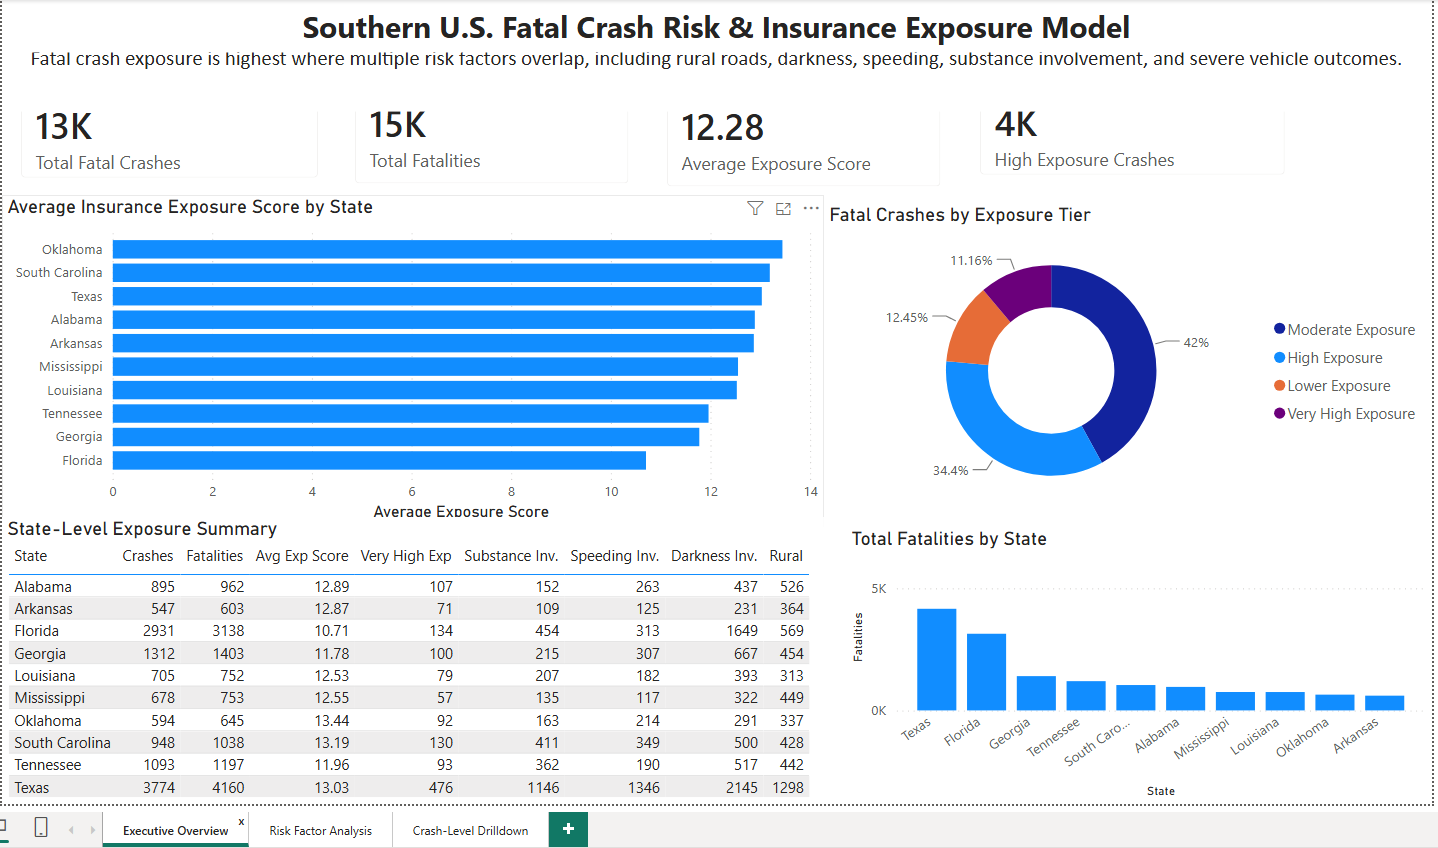

The page's visual inventory and layout, read from the dashboard file:
{"tool":"powerbi","page":{"name":"Executive Overview","canvas":[1280,720],"ordinal":0},"visuals":[{"type":"cardVisual","fields":{"Data":["risk vw_exposure_tier_summary.Total Fatalities"]},"box":[299.1,56.7,279.8,125.4],"z":0},{"type":"cardVisual","fields":{"Data":["risk vw_exposure_tier_summary.Average Exposure Score"]},"box":[578.9,59.1,279.8,125.4],"z":1000},{"type":"cardVisual","fields":{"Data":["risk vw_exposure_tier_summary.Total Fatal Crashes"]},"box":[0,66.3,300.3,111],"z":2000},{"type":"clusteredBarChart","title":"Average Insurance Exposure Score by State","fields":{"Category":["risk vw_state_exposure_summary.STATENAME"],"Y":["Avg(risk vw_state_exposure_summary.AVG_EXPOSURE_SCORE)"]},"box":[0,174.9,735.7,296.7],"z":3000},{"type":"donutChart","title":"Fatal Crashes by Exposure Tier","fields":{"Category":["risk vw_insurance_exposure_score.EXPOSURE_TIER"],"Y":["Sum(risk vw_insurance_exposure_score.ST_CASE)"]},"box":[735.7,182.1,543.9,281],"z":4000},{"type":"cardVisual","fields":{"Data":["Sum(risk vw_state_exposure_summary.HIGH_EXPOSURE_CRASHES)"]},"box":[858.7,63.9,307.5,111],"z":5000},{"type":"clusteredColumnChart","title":"Total Fatalities by State","fields":{"Category":["risk vw_state_exposure_summary.STATENAME"],"Y":["Sum(risk vw_state_exposure_summary.TOTAL_FATALITIES)"]},"box":[756.2,471.6,523.4,247.2],"z":6000},{"type":"tableEx","title":"State-Level Exposure Summary","fields":{"Values":["risk vw_state_exposure_summary.STATENAME","risk vw_state_exposure_summary.FATAL_CRASH_COUNT","risk vw_state_exposure_summary.TOTAL_FATALITIES","risk vw_state_exposure_summary.AVG_EXPOSURE_SCORE","risk vw_state_exposure_summary.VERY_HIGH_EXPOSURE_CRASHES","risk vw_state_exposure_summary.SUBSTANCE_INVOLVED_CRASHES","risk vw_state_exposure_summary.SPEEDING_INVOLVED_CRASHES","risk vw_state_exposure_summary.DARK_CONDITION_CRASHES","risk vw_state_exposure_summary.RURAL_CRASHES"]},"box":[0,463.1,735.7,256.9],"z":7000},{"type":"textbox","box":[0,35,1279.6,65.1],"z":8000},{"type":"textbox","box":[0,0,1279.6,47],"z":9000}]}

Visuals, with their boxes on the page's 1280x720 design canvas (x1, y1, x2, y2). These are canvas units, not pixel positions in the 1438x848 screenshot, which may show the page scaled, cropped or inside an application window:
cardVisual - risk vw_exposure_tier_summary.Total Fatalities: (left=299, top=57, right=579, bottom=182)
cardVisual - risk vw_exposure_tier_summary.Average Exposure Score: (left=579, top=59, right=859, bottom=184)
cardVisual - risk vw_exposure_tier_summary.Total Fatal Crashes: (left=0, top=66, right=300, bottom=177)
"Average Insurance Exposure Score by State" clusteredBarChart: (left=0, top=175, right=736, bottom=472)
"Fatal Crashes by Exposure Tier" donutChart: (left=736, top=182, right=1280, bottom=463)
cardVisual - Sum(risk vw_state_exposure_summary.HIGH_EXPOSURE_CRASHES): (left=859, top=64, right=1166, bottom=175)
"Total Fatalities by State" clusteredColumnChart: (left=756, top=472, right=1280, bottom=719)
"State-Level Exposure Summary" tableEx: (left=0, top=463, right=736, bottom=720)
textbox: (left=0, top=35, right=1280, bottom=100)
textbox: (left=0, top=0, right=1280, bottom=47)
